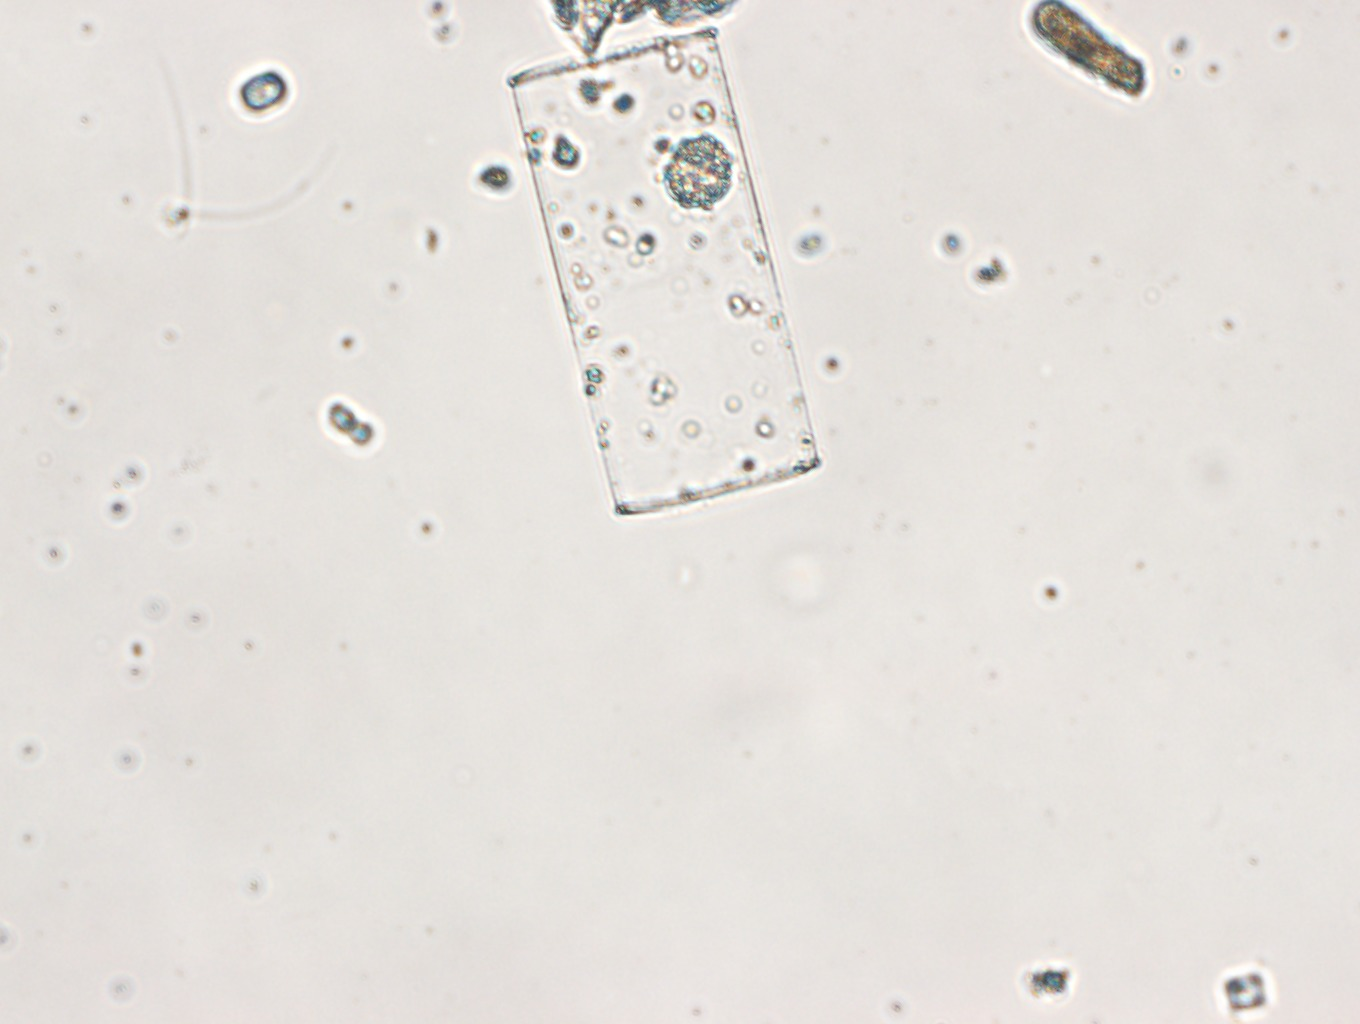guinardia flaccida: (503, 20, 830, 518)
